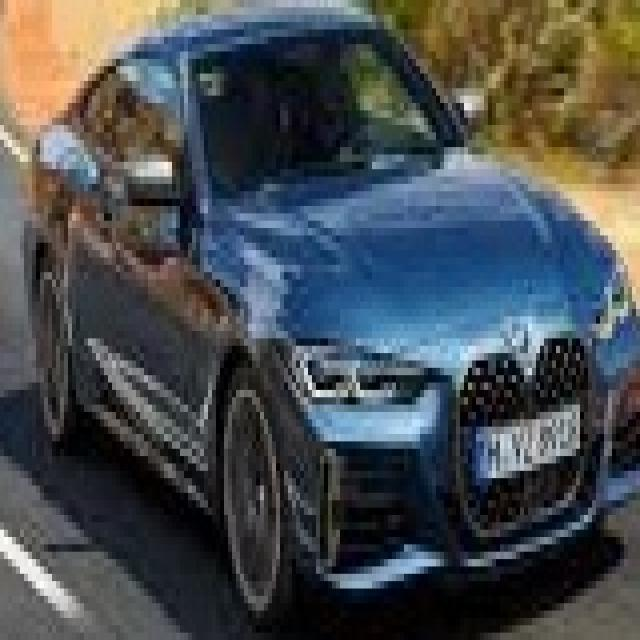blue: (26, 8, 640, 596)
